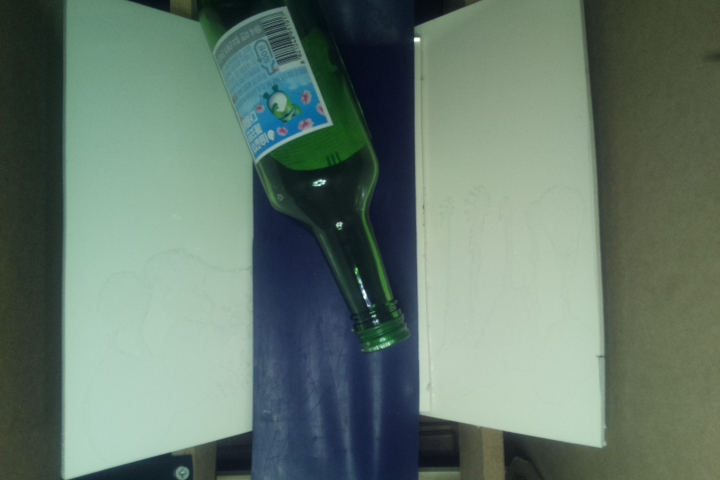soju: (194, 1, 416, 358)
